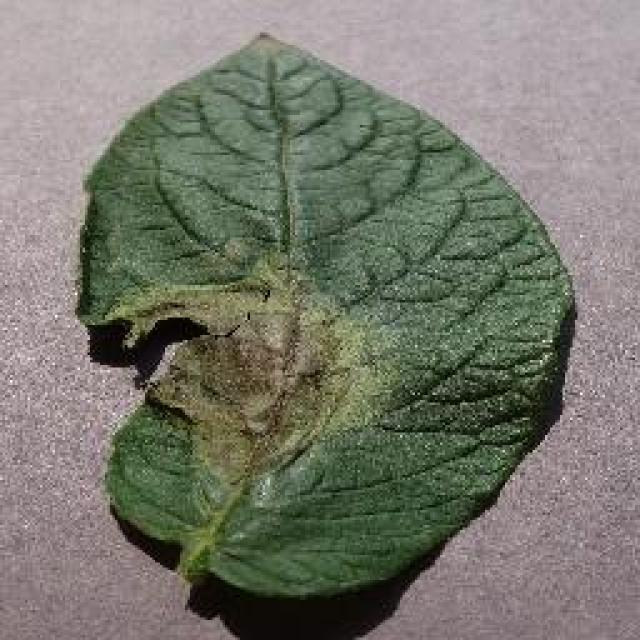late_blight: (70, 28, 580, 602)
